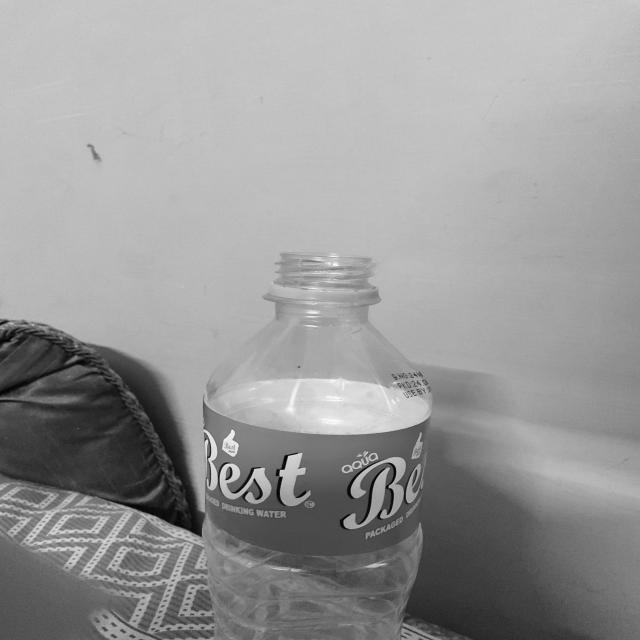open-cap: (273, 250, 378, 301)
